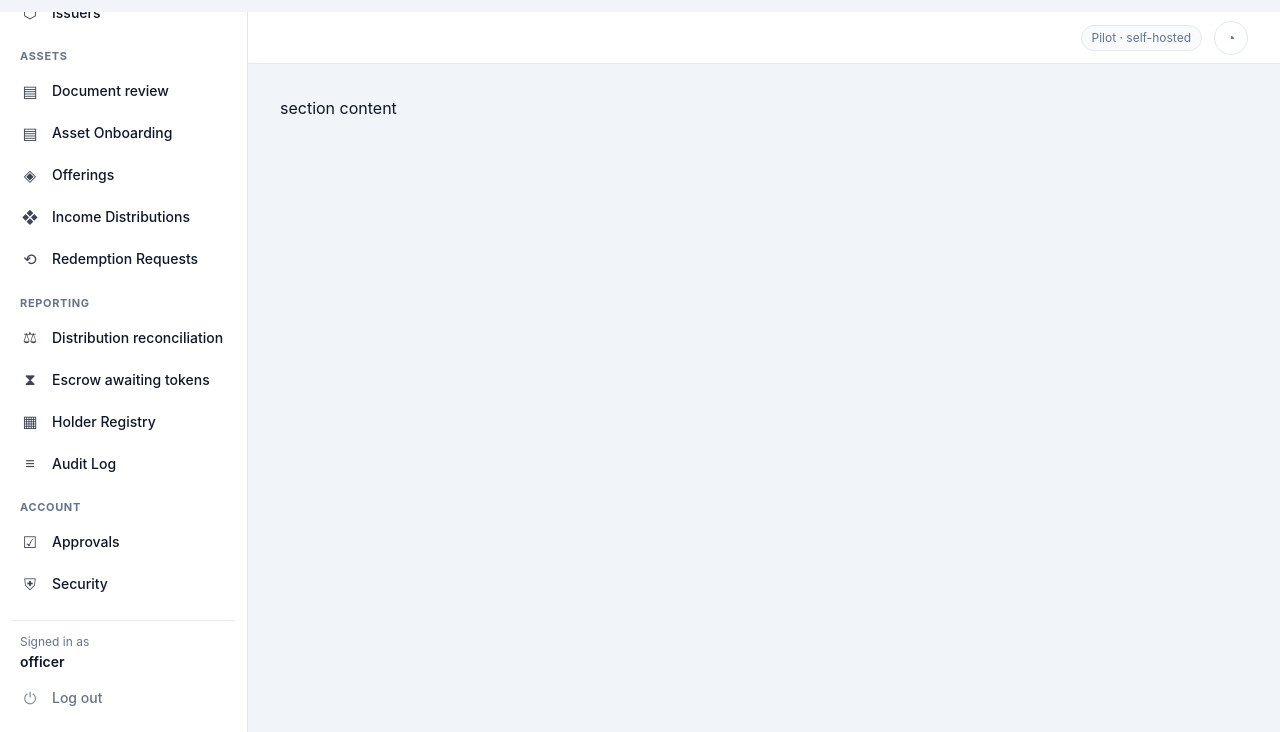
Test: AdminShell › logs_out_via_the_api_and_returns_to_the_login
(page scrolled)
Expected: the text "section content" is shown, [280, 98, 397, 118]
Click the button "⏻ Log out" at (124, 698), box [12, 680, 235, 716]
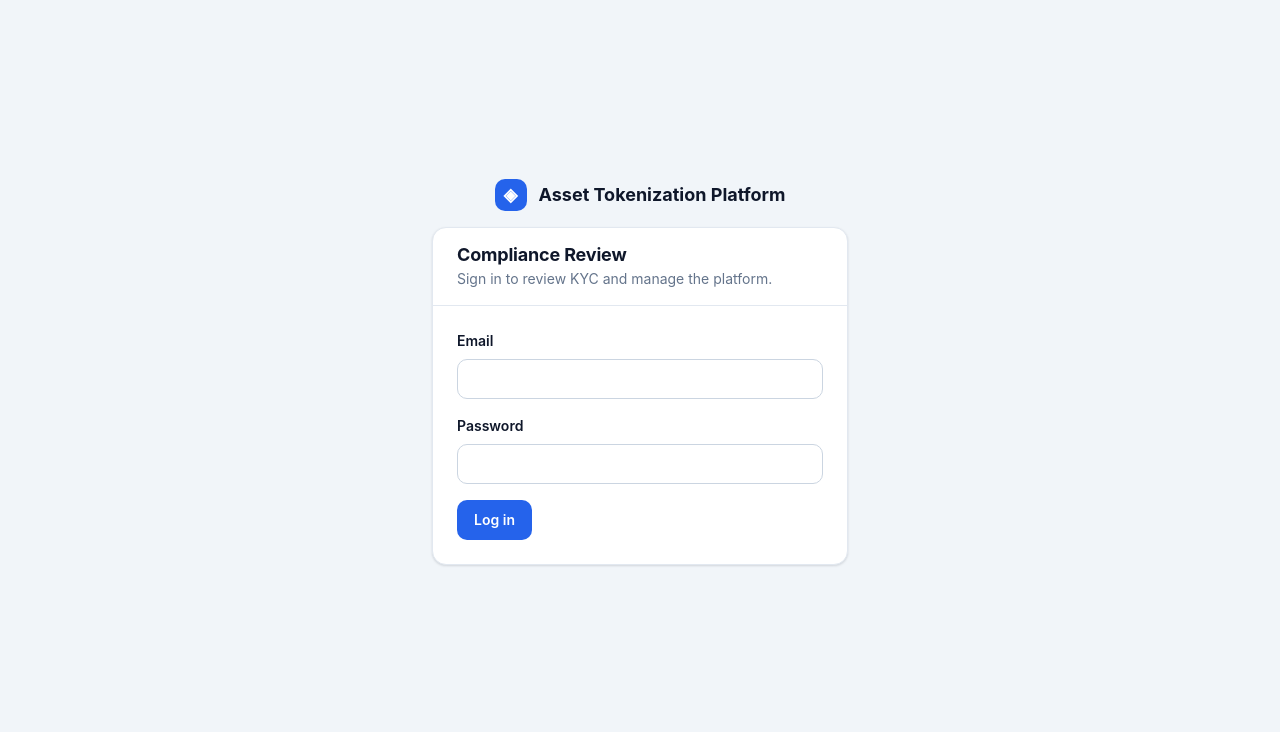
Expected: the text with test id "probe" is gone
Expected: the heading "Compliance Review" is shown, [457, 244, 626, 265]
